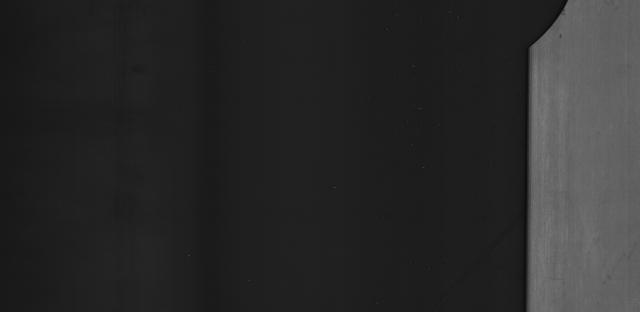crescent_gap: (511, 1, 584, 60)
